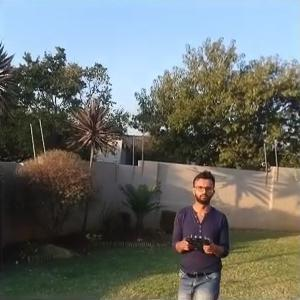follow: (166, 166, 231, 298)
